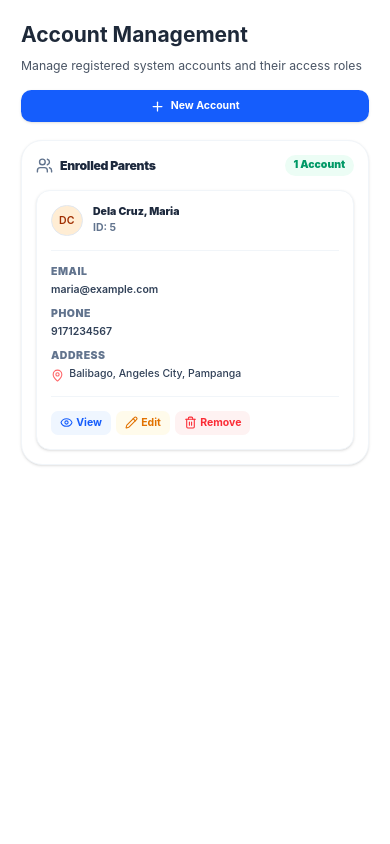
it: AccountManagement add/edit form is a popup › opens Edit in a dialog titled with the account, prefilled
Click the button "Edit" at [143, 423], box [116,411,170,435]
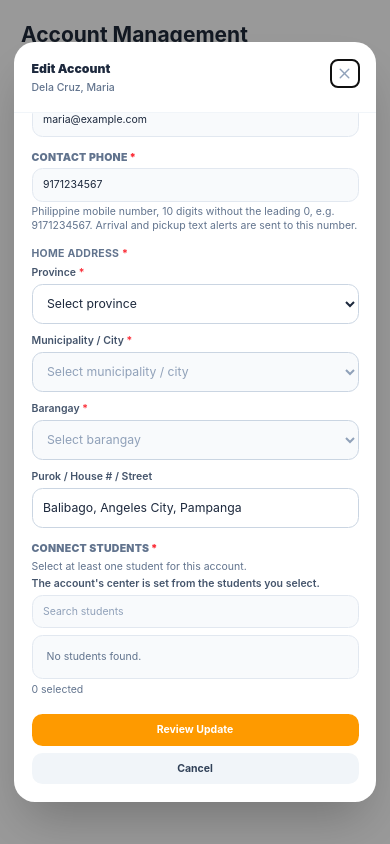
expect the text "Dela Cruz, Maria" is shown: met, box [32,81,115,95]
expect the field named "email" holds "maria@example.com": met, box [32,113,358,137]
expect the button "Review Update" is shown: met, box [32,714,358,746]
